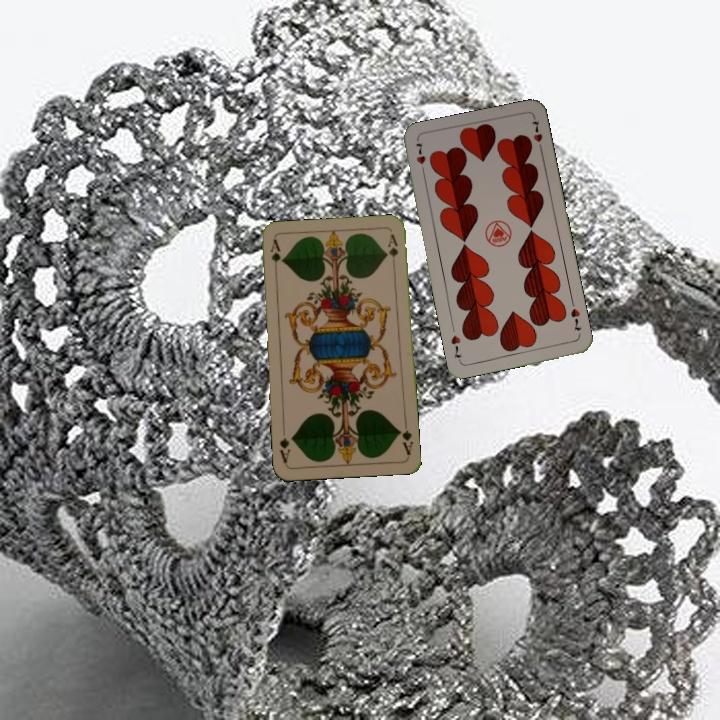GA: (395, 417, 415, 458), (266, 236, 283, 277)
H7: (412, 138, 428, 178), (566, 304, 584, 334)
